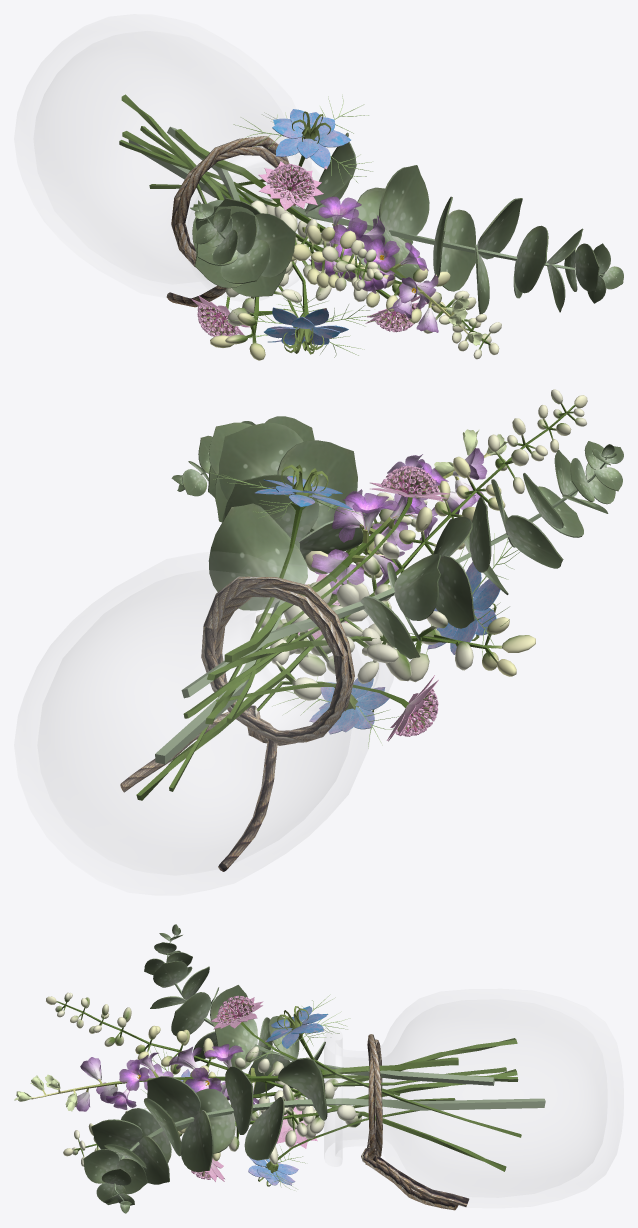
Rendered from fiorivetro.glb.
The picture shows the model from 3 angles, top to bottom: view 1: azimuth 30°, elevation 25°; view 2: azimuth 150°, elevation 25°; view 3: azimuth 270°, elevation 25°; orthographic projection. The views are drawn at different scales.
Parts seen in each view (by area): view 1: pointy_bottle, bbg3_bb29, bbg3_bb29_lambert11_0.001, rope2, eucalyptus_leaf_4, bbg3_bb30, eucalyptus_leaf_4_lambert8_0.001, eucalyptus1, eucalyptus_leaf_2, eucalyptus_leaf_3_lambert8_0.013, eucalyptus_leaf_3_lambert8_0.004, larkspur (+16 smaller); view 2: pointy_bottle, rope2, bbg3_bb29, eucalyptus_leaf_2, bbg3_bb30, eucalyptus_leaf_4_lambert8_0.002, eucalyptus_leaf_3_lambert8_0.002, bbg3_bb29_lambert11_0.001, eucalyptus_leaf_4, eucalyptus_leaf_3_lambert8_0.010, eucalyptus_leaf_4_lambert8_0.009, larkspur (+13 smaller); view 3: pointy_bottle, bbg3_bb29, rope2, eucalyptus1, bbg3_bb29_lambert11_0.001, eucalyptus_leaf_3_lambert8_0.002, eucalyptus_leaf_2, larkspur, eucalyptus_leaf_3, eucalyptus_leaf_4_lambert8_0.001, eucalyptus2, eucalyptus_leaf_3_lambert8_0.001 (+18 smaller).
Part boxes in pixels (x1=…): pointy_bottle: x1=33, y1=31, x2=316, y2=290; bbg3_bb29: x1=193, y1=199, x2=383, y2=291; bbg3_bb29_lambert11_0.001: x1=122, y1=131, x2=501, y2=359; rope2: x1=166, y1=136, x2=295, y2=307; eucalyptus_leaf_4: x1=379, y1=165, x2=429, y2=238; bbg3_bb30: x1=121, y1=94, x2=301, y2=360; eucalyptus_leaf_4_lambert8_0.001: x1=440, y1=209, x2=475, y2=291; eucalyptus1: x1=128, y1=139, x2=604, y2=275; eucalyptus_leaf_2: x1=304, y1=132, x2=356, y2=214; eucalyptus_leaf_3_lambert8_0.013: x1=255, y1=213, x2=296, y2=277; eucalyptus_leaf_3_lambert8_0.004: x1=514, y1=225, x2=548, y2=293; larkspur: x1=175, y1=129, x2=468, y2=334; pointy_bottle: x1=37, y1=558, x2=380, y2=875; rope2: x1=120, y1=576, x2=354, y2=871; bbg3_bb29: x1=136, y1=389, x2=587, y2=800; eucalyptus_leaf_2: x1=208, y1=503, x2=307, y2=610; bbg3_bb30: x1=207, y1=600, x2=535, y2=683; eucalyptus_leaf_4_lambert8_0.002: x1=218, y1=423, x2=303, y2=500; eucalyptus_leaf_3_lambert8_0.002: x1=277, y1=440, x2=357, y2=529; bbg3_bb29_lambert11_0.001: x1=205, y1=492, x2=427, y2=724; eucalyptus_leaf_4: x1=224, y1=474, x2=319, y2=541; eucalyptus_leaf_3_lambert8_0.010: x1=394, y1=554, x2=440, y2=620; eucalyptus_leaf_4_lambert8_0.009: x1=435, y1=555, x2=475, y2=628; larkspur: x1=224, y1=453, x2=490, y2=662; pointy_bottle: x1=324, y1=999, x2=607, y2=1197; bbg3_bb29: x1=46, y1=992, x2=506, y2=1171; rope2: x1=361, y1=1034, x2=469, y2=1210; eucalyptus1: x1=114, y1=1098, x2=545, y2=1200; bbg3_bb29_lambert11_0.001: x1=63, y1=1069, x2=517, y2=1166; eucalyptus_leaf_3_lambert8_0.002: x1=147, y1=1076, x2=200, y2=1130; eucalyptus_leaf_2: x1=278, y1=1057, x2=327, y2=1120; larkspur: x1=31, y1=1057, x2=458, y2=1099; eucalyptus_leaf_3: x1=244, y1=1097, x2=284, y2=1160; eucalyptus_leaf_4_lambert8_0.001: x1=181, y1=1110, x2=213, y2=1172; eucalyptus2: x1=167, y1=935, x2=494, y2=1085; eucalyptus_leaf_3_lambert8_0.001: x1=185, y1=1088, x2=235, y2=1153.
Size of the model in its own units: 8.6 by 5.48 by 13.62.
21 materials, 17 textured.
